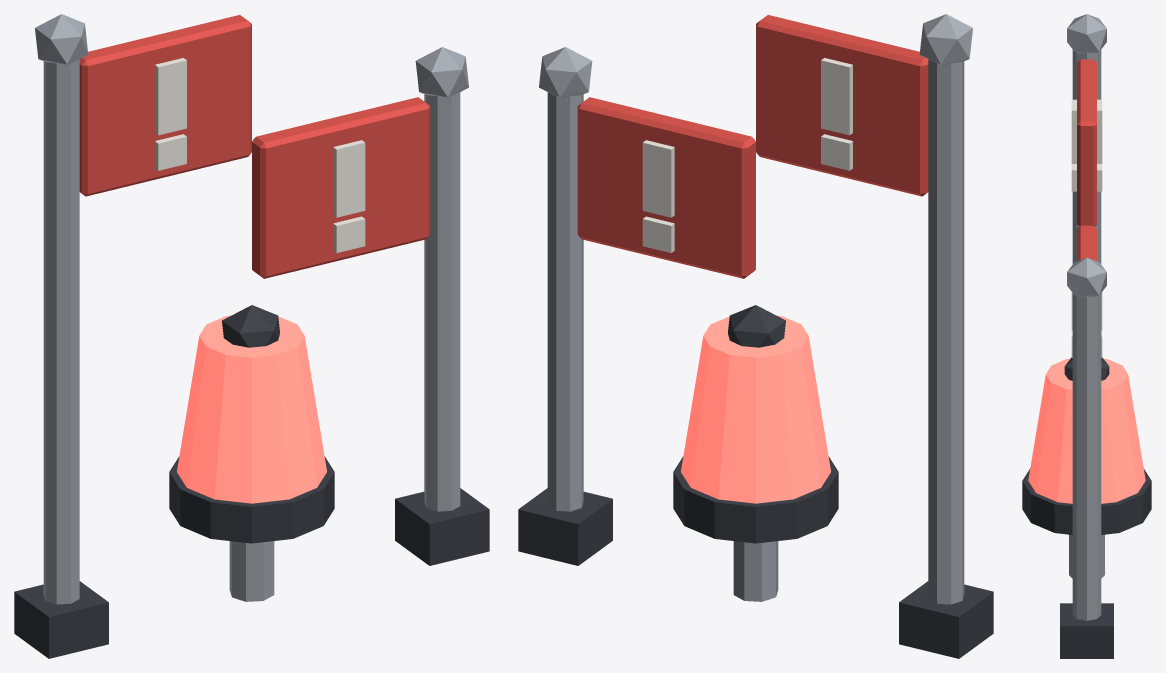
The model's file is replyall_m0_2.glb.
3 renders of one model, left to right at view 1: azimuth 30°, elevation 25°; view 2: azimuth 150°, elevation 25°; view 3: azimuth 270°, elevation 25°, orthographic. The views are drawn at different scales.
Parts seen in each view (by area): view 1: replyall_m0_2_mesh; view 2: replyall_m0_2_mesh; view 3: replyall_m0_2_mesh.
Part boxes in pixels (x1,y1,x2,y2): replyall_m0_2_mesh: (14, 14, 489, 658); replyall_m0_2_mesh: (518, 14, 993, 658); replyall_m0_2_mesh: (1022, 14, 1151, 658).
Bounding box in the file's own units: 0.44 × 0.596 × 0.143.
